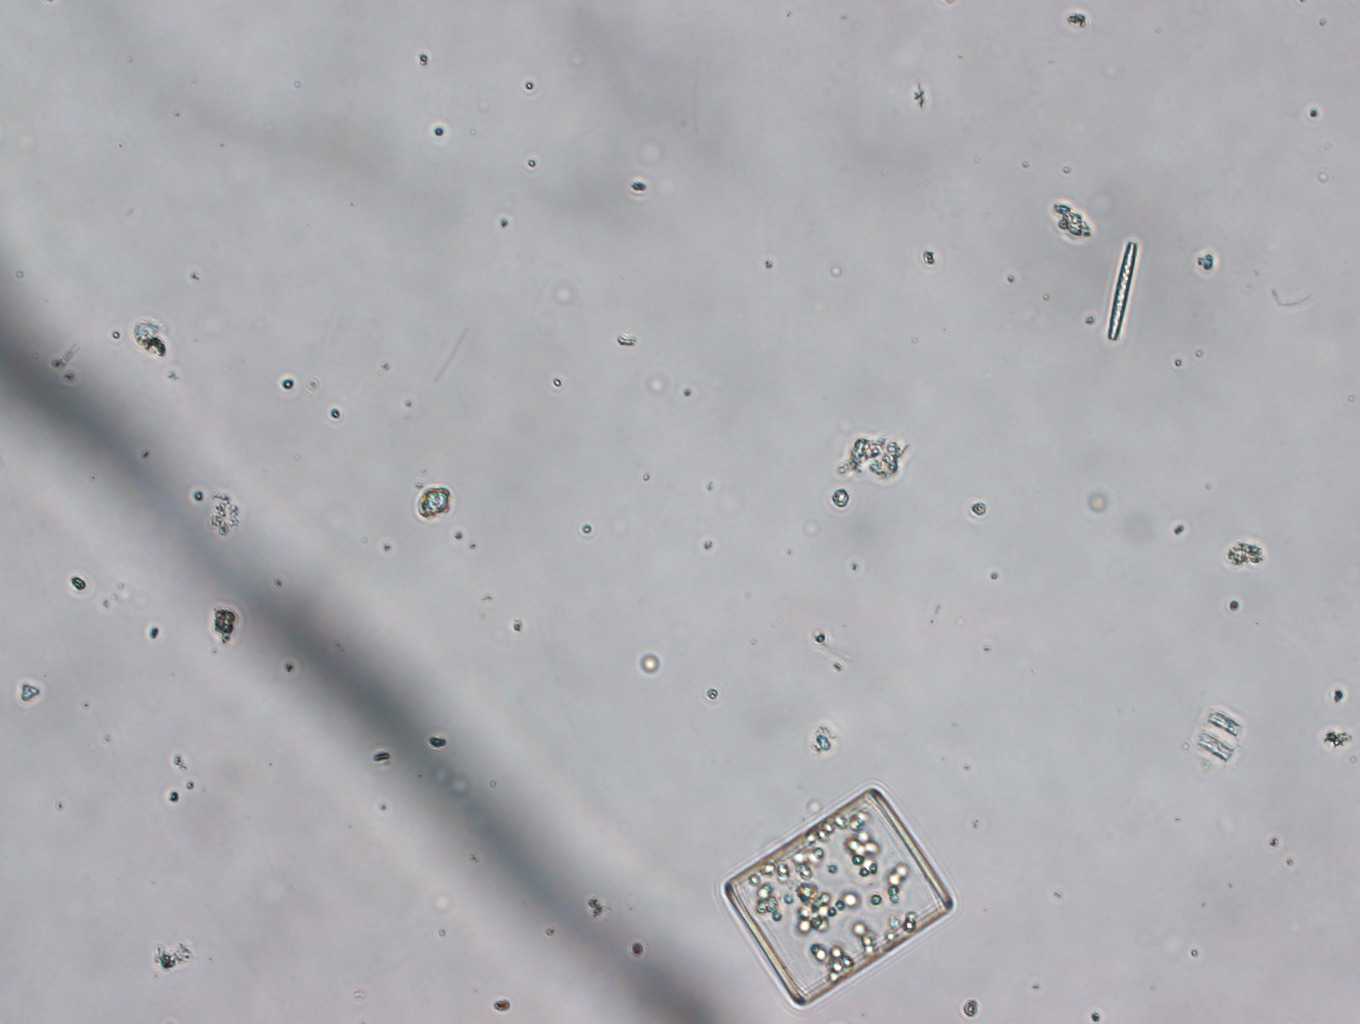guinardia flaccida: (718, 782, 959, 1009)
